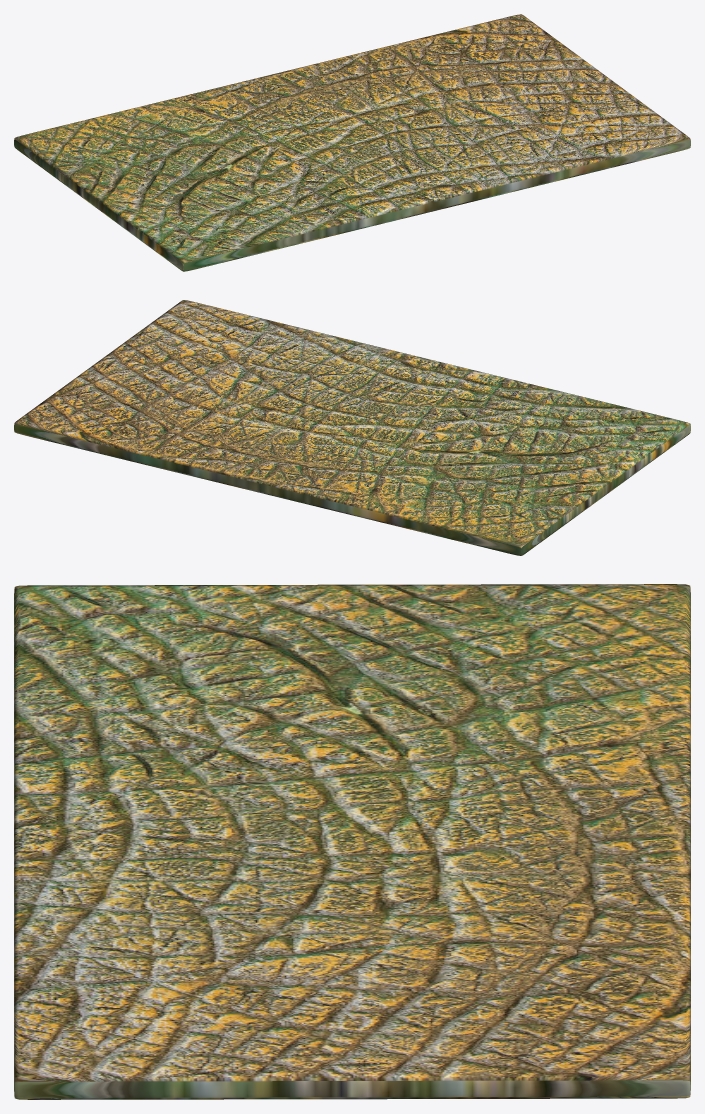
The model's file is Tapete.obj.
The picture shows the model from 3 angles, top to bottom: view 1: azimuth 30°, elevation 25°; view 2: azimuth 150°, elevation 25°; view 3: azimuth 270°, elevation 25°; orthographic projection. The views are drawn at different scales.
Visible parts, largest first — view 1: _Rectangular_rug_v1_iterations_2:_Rectangular_rug_v1; view 2: _Rectangular_rug_v1_iterations_2:_Rectangular_rug_v1; view 3: _Rectangular_rug_v1_iterations_2:_Rectangular_rug_v1.
Part boxes in pixels (x1,y1,x2,y2): _Rectangular_rug_v1_iterations_2:_Rectangular_rug_v1: [14, 14, 690, 271]; _Rectangular_rug_v1_iterations_2:_Rectangular_rug_v1: [14, 300, 690, 555]; _Rectangular_rug_v1_iterations_2:_Rectangular_rug_v1: [14, 584, 690, 1099].
Bounding box in the file's own units: 2.05 × 0.0485 × 1.19.
Materials: 1 (1 with a texture image).
